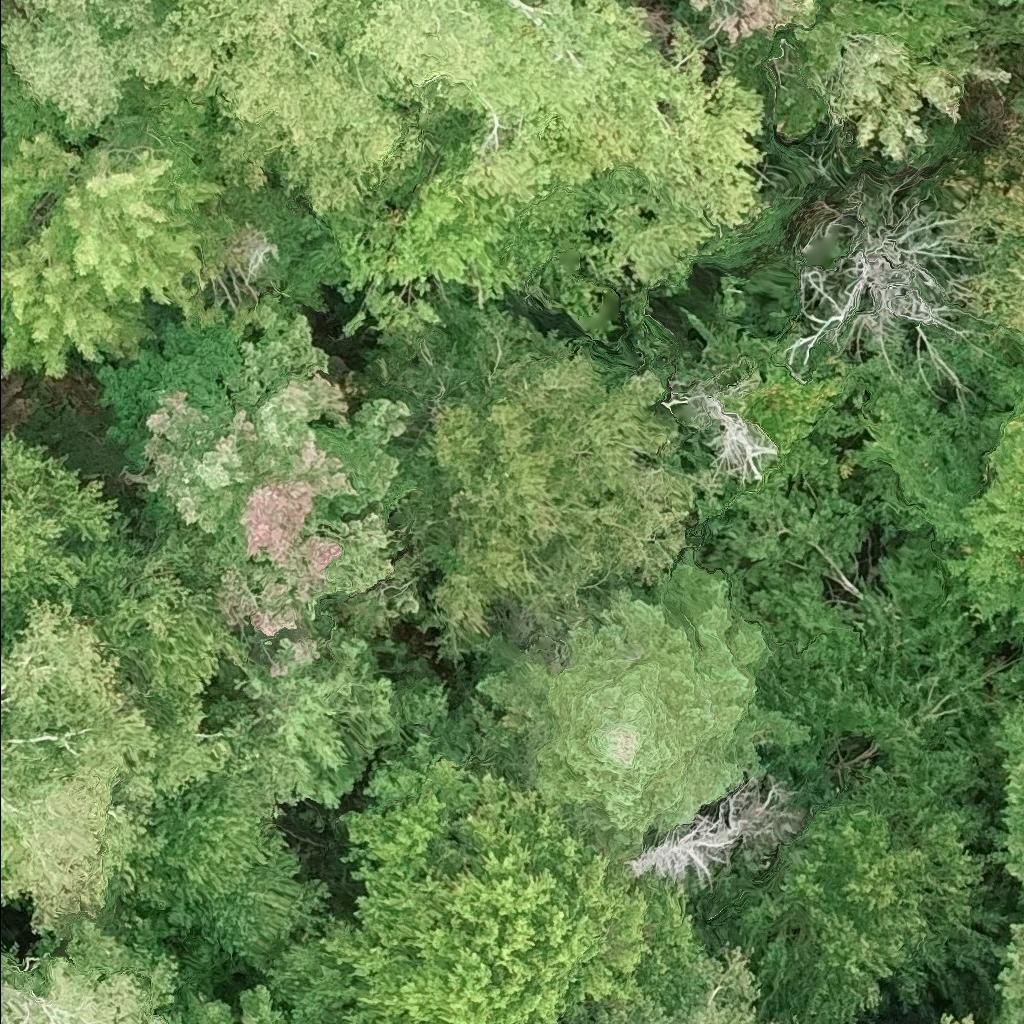crown: (94, 299, 430, 682), (343, 0, 772, 298), (264, 754, 714, 1023), (727, 606, 1013, 1023), (464, 543, 816, 862), (412, 300, 694, 667), (0, 592, 235, 954), (0, 440, 225, 719), (0, 118, 239, 380), (207, 30, 455, 235), (775, 169, 983, 394), (109, 773, 335, 974), (791, 0, 1022, 163), (934, 347, 1023, 641), (0, 0, 178, 139), (622, 770, 807, 890), (157, 0, 366, 101), (0, 914, 185, 1023), (947, 91, 1023, 348), (560, 942, 801, 1023), (978, 694, 1023, 920), (685, 0, 822, 47), (166, 985, 290, 1023), (987, 920, 1023, 1023), (965, 0, 1022, 14), (1013, 0, 1023, 39), (940, 1012, 975, 1023), (0, 0, 34, 9), (71, 0, 102, 8)
